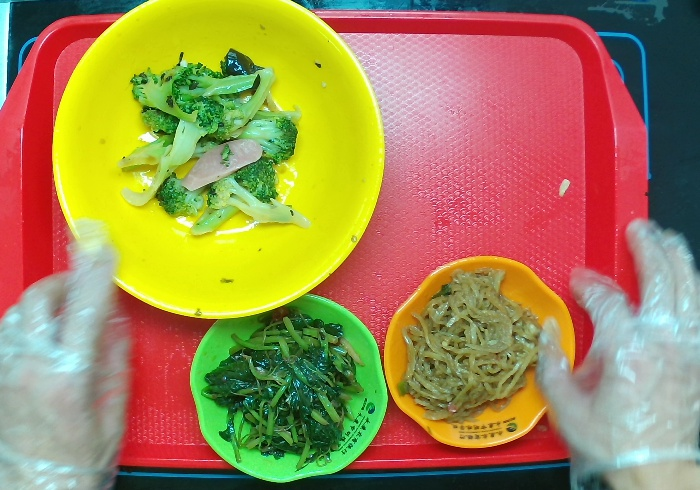YKMZ-Huang_Se_Tang_Wan: (53, 1, 388, 320)
YKMZ-Ju_Se_Ao_Bian_Wan: (384, 255, 577, 450)
YKMZ-Lv_Se_Ao_Bian_Wan: (190, 289, 390, 483)
